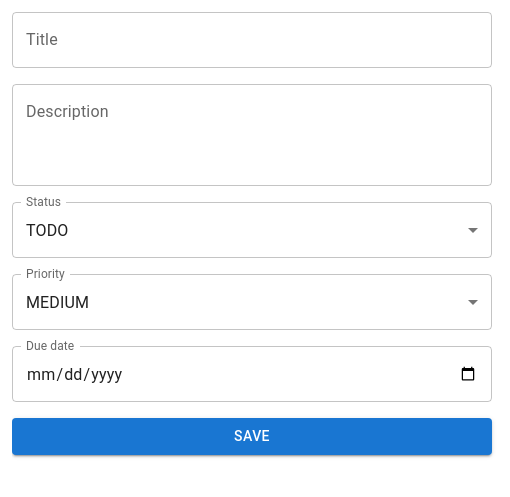
Test: TaskForm › shows a validation error and does not submit when the title is blank
Click the button "Save" at [252, 436], box 12,418 -> 492,454
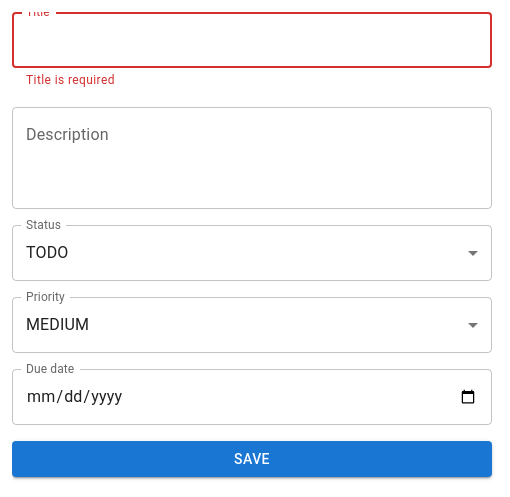
Check: the text "Title is required" is shown, box 26,73 -> 115,87
